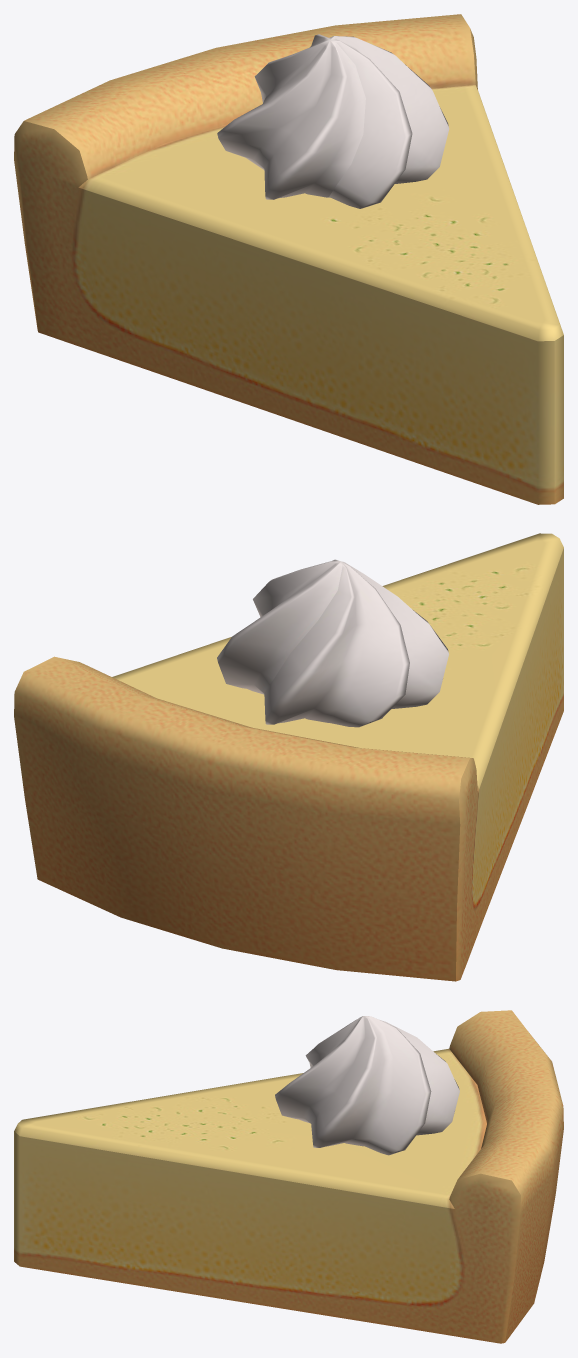
Rendered from LimePie_1.fbx.
3 views of the same model, one above another, from view 1: azimuth 30°, elevation 25°; view 2: azimuth 150°, elevation 25°; view 3: azimuth 270°, elevation 25° (orthographic). The views are drawn at different scales.
Parts seen in each view (by area): view 1: LimePie_1; view 2: LimePie_1; view 3: LimePie_1.
Boxes of the visible parts, x1=… form: LimePie_1: x1=14, y1=14, x2=563, y2=504; LimePie_1: x1=14, y1=533, x2=563, y2=981; LimePie_1: x1=14, y1=1010, x2=563, y2=1343.
Size of the model in its own units: 57.7 by 37.69 by 77.09.
1 material, 1 textured.
